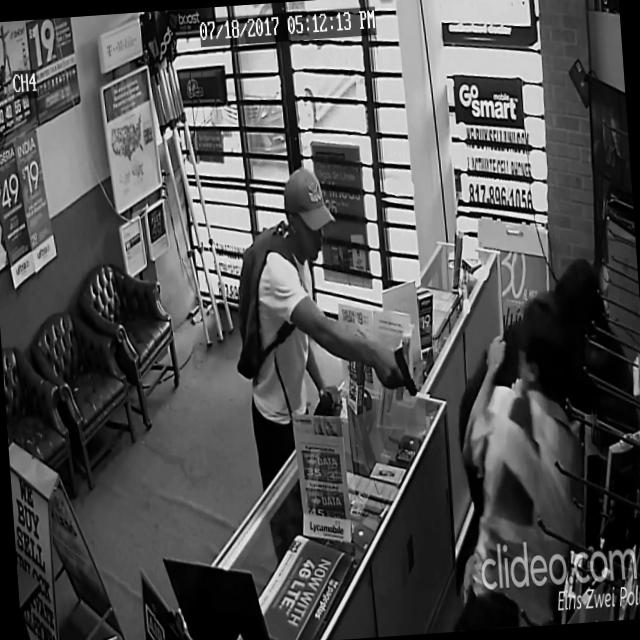gun: (392, 342, 418, 399)
person: (448, 277, 630, 590)
person with a gun: (222, 160, 424, 488)
